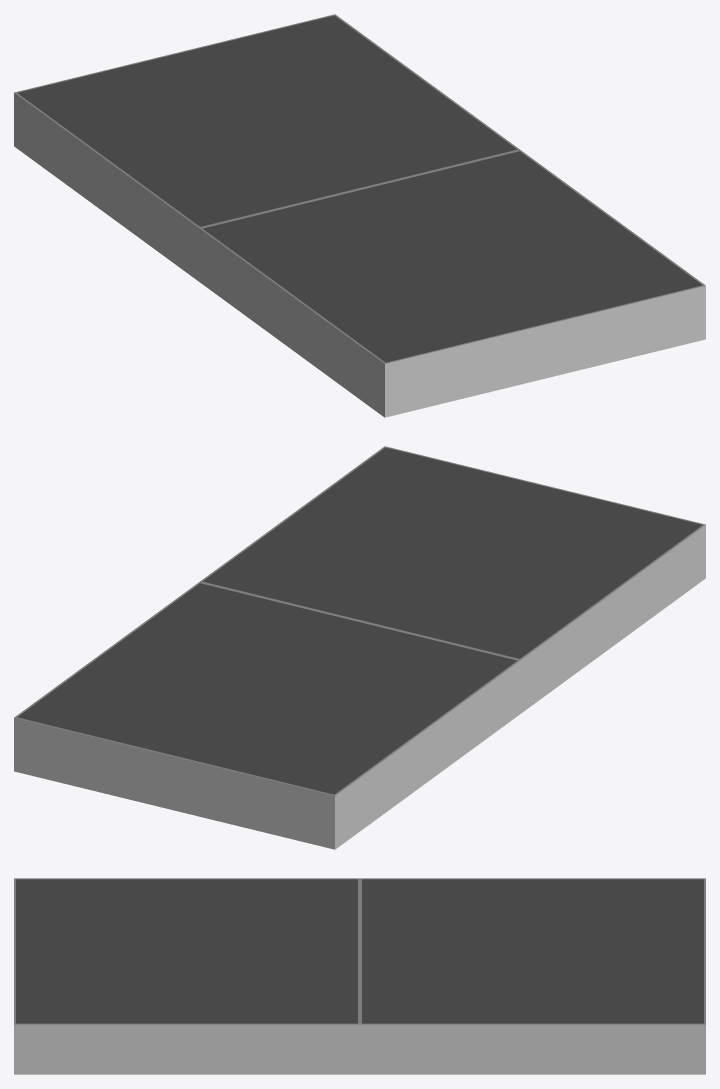
The model's file is Floor18_02.fbx.
The picture shows the model from 3 angles, top to bottom: view 1: azimuth 30°, elevation 25°; view 2: azimuth 150°, elevation 25°; view 3: azimuth 270°, elevation 25°; orthographic projection. The views are drawn at different scales.
Parts seen in each view (by area): view 1: Floor18_02; view 2: Floor18_02; view 3: Floor18_02.
Boxes of the visible parts, x1,y1,x2,y2 form: Floor18_02: (14, 14, 705, 417); Floor18_02: (14, 446, 705, 849); Floor18_02: (14, 878, 705, 1074).
Bounding box in the file's own units: 125 × 20 × 250.
